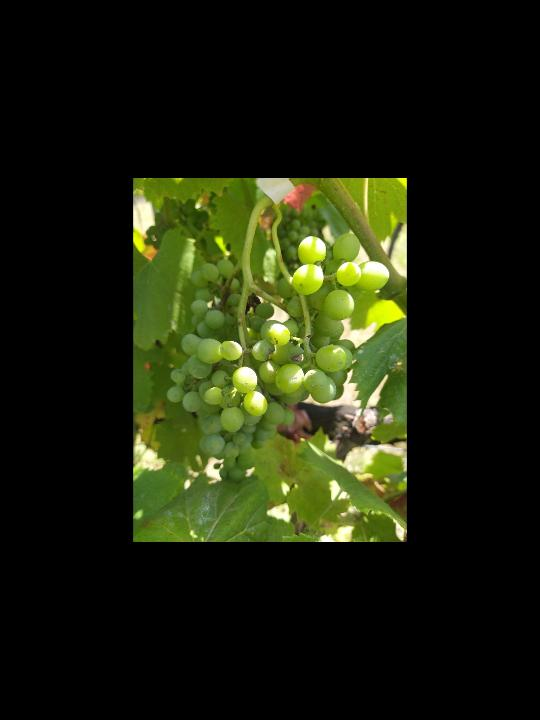grape: (165, 232, 391, 483)
